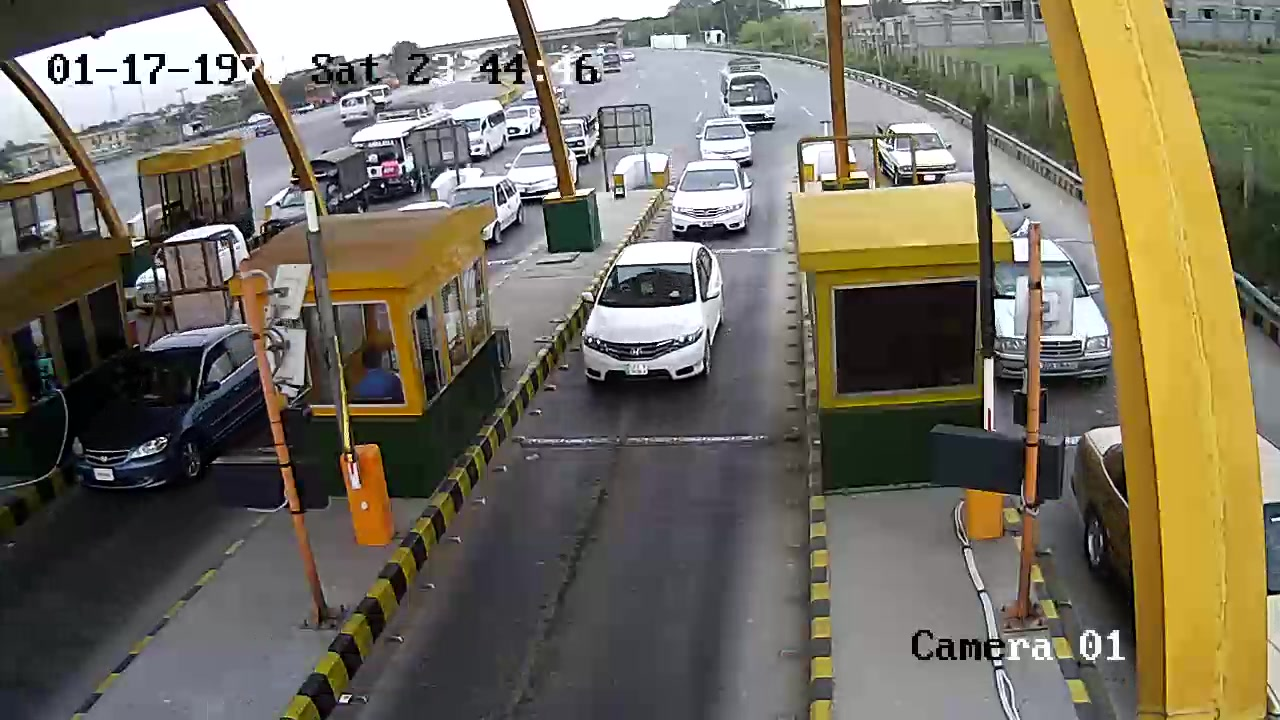F1: (565, 234, 746, 392)
